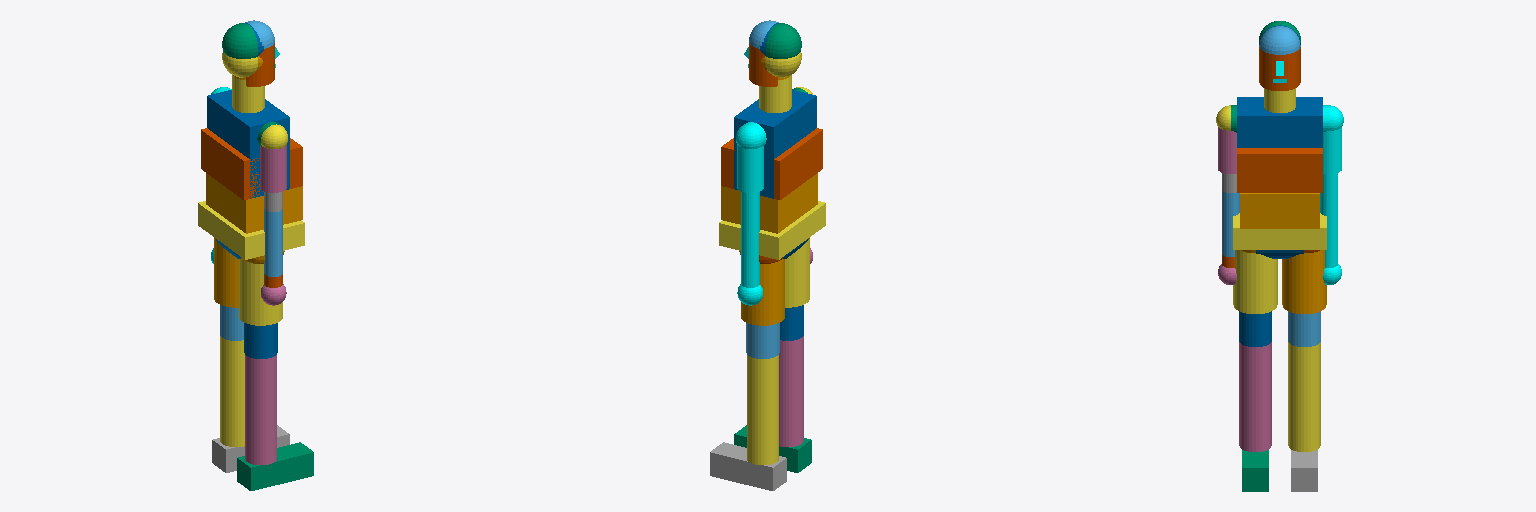
--- Facts derived from the render (not from the file) ---
The picture shows the robot from 3 angles, left to right: view 1: azimuth 30°, elevation 25°; view 2: azimuth 150°, elevation 25°; view 3: azimuth 270°, elevation 25°; orthographic projection.
Robot: human_model — 71 links, 70 joints (42 revolute, 28 fixed); root link human_model/head_link; default pose: every joint at zero.
Visible links, largest first — view 1: human_model/calf_right_link, human_model/upper_body_top_link, human_model/upper_body_bottom_link, human_model/calf_left_link, human_model/mid_body_link, human_model/pelvis_link, human_model/foot_right_link, human_model/thigh_right_link, human_model/thigh_left_link, human_model/forearm_right_link, human_model/bicep_right_link, human_model/thigh_lower_right_link (+7 smaller); view 2: human_model/calf_left_link, human_model/upper_body_top_link, human_model/upper_body_bottom_link, human_model/calf_right_link, human_model/mid_body_link, human_model/pelvis_link, human_model/foot_left_link, human_model/thigh_left_link, human_model/thigh_right_link, human_model/forearm_left_link, human_model/bicep_left_link, human_model/thigh_lower_left_link (+7 smaller); view 3: human_model/upper_body_top_link, human_model/upper_body_bottom_link, human_model/calf_left_link, human_model/calf_right_link, human_model/mid_body_link, human_model/thigh_left_link, human_model/thigh_right_link, human_model/pelvis_link, human_model/face_link, human_model/foot_left_link, human_model/foot_right_link, human_model/thigh_lower_left_link (+7 smaller).
Boxes of the visible links, box(x1,y1,x2,y2) form: human_model/calf_right_link: box(245, 355, 276, 464); human_model/upper_body_top_link: box(207, 90, 289, 198); human_model/upper_body_bottom_link: box(201, 128, 302, 199); human_model/calf_left_link: box(220, 336, 244, 446); human_model/mid_body_link: box(206, 173, 302, 233); human_model/pelvis_link: box(198, 201, 304, 259); human_model/foot_right_link: box(237, 442, 313, 490); human_model/thigh_right_link: box(239, 259, 282, 325); human_model/thigh_left_link: box(214, 239, 238, 307); human_model/forearm_right_link: box(264, 209, 282, 276); human_model/bicep_right_link: box(260, 145, 286, 192); human_model/thigh_lower_right_link: box(244, 323, 277, 358); human_model/calf_left_link: box(747, 355, 778, 464); human_model/upper_body_top_link: box(734, 90, 816, 198); human_model/upper_body_bottom_link: box(721, 128, 822, 199); human_model/calf_right_link: box(779, 336, 803, 446); human_model/mid_body_link: box(721, 173, 817, 233); human_model/pelvis_link: box(719, 201, 825, 259); human_model/foot_left_link: box(710, 442, 786, 490); human_model/thigh_left_link: box(741, 259, 784, 325); human_model/thigh_right_link: box(785, 239, 809, 307); human_model/forearm_left_link: box(741, 209, 759, 276); human_model/bicep_left_link: box(737, 145, 763, 192); human_model/thigh_lower_left_link: box(746, 323, 779, 358); human_model/upper_body_top_link: box(1237, 97, 1322, 147); human_model/upper_body_bottom_link: box(1237, 148, 1322, 192); human_model/calf_left_link: box(1288, 342, 1320, 451); human_model/calf_right_link: box(1239, 342, 1271, 451); human_model/mid_body_link: box(1240, 193, 1319, 228); human_model/thigh_left_link: box(1282, 250, 1326, 313); human_model/thigh_right_link: box(1233, 250, 1277, 313); human_model/pelvis_link: box(1233, 213, 1326, 249); human_model/face_link: box(1259, 47, 1300, 90); human_model/foot_left_link: box(1291, 450, 1317, 491); human_model/foot_right_link: box(1242, 450, 1268, 491); human_model/thigh_lower_left_link: box(1288, 311, 1320, 346).
Bounding box of the posed robot: 0.306 × 0.4639 × 1.78 m (x, y, z).
Geometry: primitives only (box / cylinder / sphere), no mesh files.

robot.urdf — human_model:
<?xml version="1.0" ?>
<robot name="human_model">
    <!--<self_collide>true</self_collide>-->
    <!--<static>false</static>-->
    <!--<pose>0 0 2 1.5708 0 0</pose>-->
    <!--<pose>0 0 2 0 -1.5708 0</pose>-->

    <link name ="human_model/head_link">
        <!--<inertial>
            <mass value="3.92"/>
            <origin
                    xyz="0.0 0.07825 0.0"
                    rpy="0 0 0" />
        </inertial>-->
        <visual name="visual">
            <origin
                    xyz="0.0 0.0 0.0"
                    rpy="0 0 0" />
            <geometry>
                <sphere radius="0.0765"/>
            </geometry>
            <!--<color>1.0 0.5 0.0</color>-->
        </visual>
        <collision name="collision">
            <origin
                    xyz="0.0 0.0 0.0"
                    rpy="0 0 0" />
            <geometry>
                <sphere radius="0.0765"/>
            </geometry>
        </collision>
    </link>

    <joint name="human_model/head_skull_front_joint" type="fixed">
        <origin
                xyz="0.023 0.0 0.050"
                rpy="0 0 0" />
        <parent link ="human_model/head_link"/>
        <child link ="human_model/skull_front_link"/>
        <axis
                xyz="0.0 0.0 0.0"/>
        <limit effort="0"
               velocity="0"
               lower="0.0"
               upper="0.0"/>
    </joint>

    <link name ="human_model/skull_front_link">
        <!--<inertial>
            <mass value="3.92"/>
            <origin
                    xyz="0.0 0.07825 0.0"
                    rpy="0 0 0" />
        </inertial>-->
        <visual name="visual">
            <origin
                    xyz="0.0 0.0 0.0"
                    rpy="0 0 0" />
            <geometry>
                <sphere radius="0.075"/>
            </geometry>
            <!--<color>1.0 0.5 0.0</color>-->
        </visual>
        <collision name="collision">
            <origin
                    xyz="0.0 0.0 0.0"
                    rpy="0 0 0" />
            <geometry>
                <sphere radius="0.075"/>
            </geometry>
        </collision>
    </link>

    <joint name="human_model/head_skull_back_joint" type="fixed">
        <origin
                xyz="-0.0205 0.0 0.0475"
                rpy="0 0 0" />
        <parent link ="human_model/head_link"/>
        <child link ="human_model/skull_back_link"/>
        <axis
                xyz="0.0 0.0 0.0"/>
        <limit effort="0"
               velocity="0"
               lower="0.0"
               upper="0.0"/>
    </joint>

    <link name ="human_model/skull_back_link">
        <!--<inertial>
            <mass value="3.92"/>
            <origin
                    xyz="0.0 0.07825 0.0"
                    rpy="0 0 0" />
        </inertial>-->
        <visual name="visual">
            <origin
                    xyz="0.0 0.0 0.0"
                    rpy="0 0 0" />
            <geometry>
                <sphere radius="0.0775"/>
            </geometry>
            <!--<color>1.0 0.5 0.0</color>-->
        </visual>
        <collision name="collision">
            <origin
                    xyz="0.0 0.0 0.0"
                    rpy="0 0 0" />
            <geometry>
                <sphere radius="0.0775"/>
            </geometry>
        </collision>
    </link>

    <joint name="human_model/head_skull_back_base_joint" type="fixed">
        <origin
                xyz="-0.0205 0.0 0.0"
                rpy="0 0 0" />
        <parent link ="human_model/head_link"/>
        <child link ="human_model/skull_back_base_link"/>
        <axis
                xyz="0.0 0.0 0.0"/>
        <limit effort="0"
               velocity="0"
               lower="0.0"
               upper="0.0"/>
    </joint>

    <link name ="human_model/skull_back_base_link">
        <!--<inertial>
            <mass value="3.92"/>
            <origin
                    xyz="0.0 0.07825 0.0"
                    rpy="0 0 0" />
        </inertial>-->
        <visual name="visual">
            <origin
                    xyz="0.0 0.0 0.0"
                    rpy="0 0 0" />
            <geometry>
                <sphere radius="0.0775"/>
            </geometry>
            <!--<color>1.0 0.5 0.0</color>-->
        </visual>
        <collision name="collision">
            <origin
                    xyz="0.0 0.0 0.0"
                    rpy="0 0 0" />
            <geometry>
                <sphere radius="0.0775"/>
            </geometry>
        </collision>
    </link>

    <joint name="human_model/head_skull_core_joint" type="fixed">
        <origin
                xyz="0.00125 0.0 0.0475"
                rpy="0 1.570796 0" />
        <parent link ="human_model/head_link"/>
        <child link ="human_model/skull_core_link"/>
        <axis
                xyz="0.0 0.0 0.0"/>
        <limit effort="0"
               velocity="0"
               lower="0.0"
               upper="0.0"/>
    </joint>

    <link name ="human_model/skull_core_link">
        <!--<inertial>
            <mass value="3.92"/>
            <origin
                    xyz="0.0 0.07825 0.0"
                    rpy="0 0 0" />
        </inertial>-->
        <visual name="visual">
            <origin
                    xyz="0.0 0.0 0.0"
                    rpy="0 0 0" />
            <geometry>
                <cylinder radius="0.075"
                          length="0.0435"/>
            </geometry>
            <!--<color>1.0 0.5 0.0</color>-->
        </visual>
        <collision name="collision">
            <origin
                    xyz="0.0 0.0 0.0"
                    rpy="0 0 0" />
            <geometry>
                <cylinder radius="0.075"
                          length="0.0435"/>
            </geometry>
        </collision>
    </link>

    <joint name="human_model/head_face_joint" type="fixed">
        <origin
                xyz="0.023 0.0 -0.023"
                rpy="0.0 0 0" />
        <parent link ="human_model/head_link"/>
        <child link ="human_model/face_link"/>
        <axis
                xyz="0.0 0.0 0.0"/>
        <limit effort="0"
               velocity="0"
               lower="0.0"
               upper="0.0"/>
    </joint>

    <link name ="human_model/face_link">
        <!--<inertial>
            <mass value="3.92"/>
            <origin
                    xyz="0.0 0.07825 0.0"
                    rpy="0 0 0" />
        </inertial>-->
        <visual name="visual">
            <origin
                    xyz="0.0 0.0 0.0"
                    rpy="0 0 0" />
            <geometry>
                <cylinder radius="0.075"
                          length="0.146"/>
            </geometry>
            <!--<color>1.0 0.5 0.0</color>-->
        </visual>
        <collision name="collision">
            <origin
                    xyz="0.0 0.0 0.0"
                    rpy="0 0 0" />
            <geometry>
                <cylinder radius="0.07"
                          length="0.183"/>
            </geometry>
        </collision>
    </link>

    <joint name="human_model/head_nose_joint" type="fixed">
        <origin
                xyz="0.098 0.0 0.02568"
                rpy="0.0 -0.49589449 0" />
        <parent link ="human_model/head_link"/>
        <child link ="human_model/nose_link"/>
        <axis
                xyz="0.0 0.0 0.0"/>
        <limit effort="0"
               velocity="0"
               lower="0.0"
               upper="0.0"/>
    </joint>

    <link name ="human_model/nose_link">
        <!--<inertial>
            <mass value="3.92"/>
            <origin
                    xyz="0.0 0.07825 0.0"
                    rpy="0 0 0" />
        </inertial>-->
        <visual name="visual">
            <origin
                    xyz="-0.05 0.0 -0.0265"
                    rpy="0 0 0" />
            <geometry>
                <box size="0.1 0.028 0.053"/>
            </geometry>
            <material name="Cyan">
                <color rgba="0 1.0 1.0 1.0"/>
            </material>
        </visual>
        <collision name="collision">
            <origin
                    xyz="-0.05 0.0 -0.0265"
                    rpy="0 0 0" />
            <geometry>
                <box size="0.1 0.028 0.053"/>
            </geometry>
        </collision>
    </link>

    <joint name="human_model/head_mouth_joint" type="fixed">
        <origin
                xyz="0.098 0.0 -0.055"
                rpy="0.0 0 0" />
        <parent link ="human_model/head_link"/>
        <child link ="human_model/mouth_link"/>
        <axis
                xyz="0.0 0.0 0.0"/>
        <limit effort="0"
               velocity="0"
               lower="0.0"
               upper="0.0"/>
    </joint>

    <link name ="human_model/mouth_link">
        <!--<inertial>
            <mass value="3.92"/>
            <origin
                    xyz="0.0 0.07825 0.0"
                    rpy="0 0 0" />
        </inertial>-->
        <visual name="visual">
            <origin
                    xyz="-0.005 0 0"
                    rpy="0 0 0" />
            <geometry>
                <box size="0.01 0.051 0.015"/>
            </geometry>
            <material name="Cyan">
                <color rgba="0 1.0 1.0 1.0"/>
            </material>
        </visual>
        <collision name="collision">
            <origin
                    xyz="-0.005 0 0"
                    rpy="0 0 0" />
            <geometry>
                <box size="0.01 0.051 0.015"/>
            </geometry>
        </collision>
    </link>

    <joint name="human_model/head_skull_base_joint" type="fixed">
        <origin
                xyz="0.0 0.0 0.0"
                rpy="0.0 0.0 0" />
        <parent link ="human_model/head_link"/>
        <child link ="human_model/skull_base_link"/>
        <axis
                xyz="0.0 0.0 0.0"/>
        <limit effort="0"
               velocity="0"
               lower="0.0"
               upper="0.0"/>
    </joint>

    <link name ="human_model/skull_base_link">
        <!--<inertial>
            <mass value="3.92"/>
            <origin
                    xyz="0.0 0.07825 0.0"
                    rpy="0 0 0" />
        </inertial>-->
        <visual name="visual">
            <origin
                    xyz="0 0.0 0"
                    rpy="0 0 0" />
            <geometry>
                <cylinder radius="0.0585"
                          length="0.146"/>
            </geometry>
            <!--<color>1.0 0.5 0.0</color>-->
        </visual>
        <collision name="collision">
            <origin
                    xyz="0.0 0.0 0.0"
                    rpy="0 0 0" />
            <geometry>
                <cylinder radius="0.0585"
                          length="0.146"/>
            </geometry>
        </collision>
    </link>

    <joint name="human_model/head_neck_x_joint" type="revolute">
        <origin
                xyz="0.0 0.0 -0.073"
                rpy="0.0 0.0 0" />
        <parent link ="human_model/head_link"/>
        <child link ="human_model/neck_rotx_link"/>
        <axis
                xyz="1.0 0.0 0.0"/>
        <limit effort="0"
               velocity="0"
               lower="-1.58"
               upper="1.58"/>
    </joint>

    <link name ="human_model/neck_rotx_link">
    </link>

    <joint name="human_model/head_neck_y_joint" type="revolute">
        <origin
                xyz="0.0 0.0 0.0"
                rpy="0.0 0.0 0" />
        <parent link ="human_model/neck_rotx_link"/>
        <child link ="human_model/neck_roty_link"/>
        <axis
                xyz="0.0 1.0 0.0"/>
        <limit effort="0"
               velocity="0"
               lower="-1.58"
               upper="1.58"/>
    </joint>

    <link name ="human_model/neck_roty_link">
    </link>

    <joint name="human_model/head_neck_z_joint" type="revolute">
        <origin
                xyz="0.0 0.0 0.0"
                rpy="0.0 0.0 0" />
        <parent link ="human_model/neck_roty_link"/>
        <child link ="human_model/neck_link"/>
        <axis
                xyz="0.0 0.0 1.0"/>
        <limit effort="0"
               velocity="0"
               lower="-1.58"
               upper="1.58"/>
    </joint>

    <link name ="human_model/neck_link">
        <!--<inertial>
            <mass value="3.92"/>
            <origin
                    xyz="0.0 0.07825 0.0"
                    rpy="0 0 0" />
        </inertial>-->
        <visual name="visual">
            <origin
                    xyz="0 0.0 -0.065"
                    rpy="0 0 0" />
            <geometry>
                <cylinder radius="0.0585"
                          length="0.130"/>
            </geometry>
            <!--<color>1.0 0.5 0.0</color>-->
        </visual>
        <collision name="collision">
            <origin
                    xyz="0.0 0.0 -0.065"
                    rpy="0 0 0" />
            <geometry>
                <cylinder radius="0.0585"
                          length="0.130"/>
            </geometry>
        </collision>
    </link>

    <joint name="human_model/neck_upper_body_top_joint" type="revolute">
        <origin
                xyz="0.0 0.0 -0.13"
                rpy="0.0 0.0 0" />
        <parent link ="human_model/neck_link"/>
        <child link ="human_model/upper_body_top_link"/>
        <axis
                xyz="0.0 1.0 0.0"/>
        <limit effort="0"
               velocity="0"
               lower="-1."
               upper="1."/>
    </joint>

    <link name ="human_model/upper_body_top_link">
        <!--<inertial>
            <mass value="3.92"/>
            <origin
                    xyz="0.0 0.07825 0.0"
                    rpy="0 0 0" />
        </inertial>-->
        <visual name="visual">
            <origin
                    xyz="0.0 0.0 -0.14215"
                    rpy="0 0 0" />
            <geometry>
                <box size="0.166923 0.310 0.2843"/>
            </geometry>
            <!--<color>1.0 0.5 0.0</color>-->
        </visual>
        <collision name="collision">
            <origin
                    xyz="0.0 0.0 -0.14215"
                    rpy="0 0 0" />
            <geometry>
                <box size="0.166923 0.310 0.2843"/>
            </geometry>
        </collision>
    </link>

    <joint name="human_model/upper_body_bottom_joint" type="fixed">
        <origin
                xyz="0.0 0.0 -0.1284"
                rpy="0.0 0.0 0" />
        <parent link ="human_model/upper_body_top_link"/>
        <child link ="human_model/upper_body_bottom_link"/>
        <axis
                xyz="0.0 1.0 0.0"/>
        <limit effort="0"
               velocity="0"
               lower="-1."
               upper="1."/>
    </joint>

    <link name ="human_model/upper_body_bottom_link">
        <!--<inertial>
            <mass value="3.92"/>
            <origin
                    xyz="0.0 0.07825 0.0"
                    rpy="0 0 0" />
        </inertial>-->
        <visual name="visual">
            <origin
                    xyz="0.01279 0.0 -0.077948"
                    rpy="0 0 0" />
            <geometry>
                <box size="0.244 0.310 0.1559"/>
            </geometry>
            <!--<color>1.0 0.5 0.0</color>-->
        </visual>
        <collision name="collision">
            <origin
                    xyz="0.01279 0.0 -0.077948"
                    rpy="0 0 0" />
            <geometry>
                <box size="0.244 0.310 0.1559"/>
            </geometry>
        </collision>
    </link>

    <joint name="human_model/upper_body_mid_body_x_joint" type="revolute">
        <origin
                xyz="0.0 0.0 -0.2843"
                rpy="0.0 0.0 0" />
        <parent link ="human_model/upper_body_top_link"/>
        <child link ="human_model/mid_body_rotx_link"/>
        <axis
                xyz="1.0 0.0 0.0"/>
        <limit effort="0"
               velocity="0"
               lower="-1.58"
               upper="1.58"/>
    </joint>

    <link name ="human_model/mid_body_rotx_link">
    </link>

    <joint name="human_model/upper_body_mid_body_y_joint" type="revolute">
        <origin
                xyz="0.0 0.0 0.0"
                rpy="0.0 0.0 0" />
        <parent link ="human_model/mid_body_rotx_link"/>
        <child link ="human_model/mid_body_roty_link"/>
        <axis
                xyz="0.0 1.0 0.0"/>
        <limit effort="0"
               velocity="0"
               lower="-1.58"
               upper="1.58"/>
    </joint>

    <link name ="human_model/mid_body_roty_link">
    </link>

    <joint name="human_model/upper_body_mid_body_z_joint" type="revolute">
        <origin
                xyz="0.0 0.0 0.0"
                rpy="0.0 0.0 0" />
        <parent link ="human_model/mid_body_roty_link"/>
        <child link ="human_model/mid_body_link"/>
        <axis
                xyz="0.0 0.0 1.0"/>
        <limit effort="0"
               velocity="0"
               lower="-1.58"
               upper="1.58"/>
    </joint>

    <link name ="human_model/mid_body_link">
        <!--<inertial>
            <mass value="3.92"/>
            <origin
                    xyz="0.0 0.07825 0.0"
                    rpy="0 0 0" />
        </inertial>-->
        <visual name="visual">
            <origin
                    xyz="0.02465 0.0 -0.06985"
                    rpy="0 0 0" />
            <geometry>
                <box size="0.23626 0.290 0.1397"/>
            </geometry>
            <!--<color>1.0 0.5 0.0</color>-->
        </visual>
        <collision name="collision">
            <origin
                    xyz="0.02465 0.0 -0.06985"
                    rpy="0 0 0" />
            <geometry>
                <box size="0.23626 0.290 0.1397"/>
            </geometry>
        </collision>
    </link>

    <joint name="human_model/mid_body_pelvis_x_joint" type="revolute">
        <origin
                xyz="0.0 0.0 -0.1397"
                rpy="0.0 0.0 0" />
        <parent link ="human_model/mid_body_link"/>
        <child link ="human_model/pelvis_rotx_link"/>
        <axis
                xyz="1.0 0.0 0.0"/>
        <limit effort="0"
               velocity="0"
               lower="-1.58"
               upper="1.58"/>
    </joint>

    <link name ="human_model/pelvis_rotx_link">
    </link>

    <joint name="human_model/mid_body_pelvis_y_joint" type="revolute">
        <origin
                xyz="0.0 0.0 0.0"
                rpy="0.0 0.0 0" />
        <parent link ="human_model/pelvis_rotx_link"/>
        <child link ="human_model/pelvis_roty_link"/>
        <axis
                xyz="0.0 1.0 0.0"/>
        <limit effort="0"
               velocity="0"
               lower="-1.58"
               upper="1.58"/>
    </joint>

    <link name ="human_model/pelvis_roty_link">
    </link>

    <joint name="human_model/mid_body_pelvis_z_joint" type="revolute">
        <origin
                xyz="0.0 0.0 0.0"
                rpy="0.0 0.0 0" />
        <parent link ="human_model/pelvis_roty_link"/>
        <child link ="human_model/pelvis_link"/>
        <axis
                xyz="0.0 0.0 1.0"/>
        <limit effort="0"
               velocity="0"
               lower="-1.58"
               upper="1.58"/>
    </joint>

    <link name ="human_model/pelvis_link">
        <!--<inertial>
            <mass value="3.92"/>
            <origin
                    xyz="0.0 0.07825 0.0"
                    rpy="0 0 0" />
        </inertial>-->
        <visual name="visual">
            <origin
                    xyz="0.01145385 0.0 -0.0445"
                    rpy="0 0 0" />
            <geometry>
                <box size="0.2488957 0.3424 0.089"/>
            </geometry>
            <!--<color>1.0 0.5 0.0</color>-->
        </visual>
        <collision name="collision">
            <origin
                    xyz="0.01145385 0.0 -0.0445"
                    rpy="0 0 0" />
            <geometry>
                <box size="0.2488957 0.3424 0.089"/>
            </geometry>
        </collision>
    </link>

    <joint name="human_model/pelvis_pelvis_floor_joint" type="fixed">
        <origin
                xyz="0.0 0.0 -0.089"
                rpy="0 0 0" />
        <parent link ="human_model/pelvis_link"/>
        <child link ="human_model/pelvis_floor_link"/>
        <axis
                xyz="0.0 0.0 0.0"/>
        <limit effort="0"
               velocity="0"
               lower="0.0"
               upper="0.0"/>
    </joint>

    <link name ="human_model/pelvis_floor_link">
        <!--<inertial>
            <mass value="3.92"/>
            <origin
                    xyz="0.0 0.07825 0.0"
                    rpy="0 0 0" />
        </inertial>-->
        <visual name="visual">
            <origin
                    xyz="0.0 0.0 0.0"
                    rpy="1.5707963267948966 0 0" />
            <geometry>
                <cylinder
                        radius="0.089"
                        length="0.178"/>
            </geometry>
            <!--<color>1.0 0.5 0.0</color>-->
        </visual>
        <collision name="collision">
            <origin
                    xyz="0.0 0.0 -0.089"
                    rpy="1.5707963267948966 0 0" />
            <geometry>
                <cylinder
                        radius="0.089"
                        length="0.178"/>
            </geometry>
        </collision>
    </link>


    <!--LEFT LEG-->
    <joint name="human_model/pelvis_hip_left_joint" type="fixed">
        <origin
                xyz="0.0 0.089 -0.089"
                rpy="0 0 0" />
        <parent link ="human_model/pelvis_link"/>
        <child link ="human_model/hip_left_link"/>
        <axis
                xyz="0.0 0.0 0.0"/>
        <limit effort="0"
               velocity="0"
               lower="0.0"
               upper="0.0"/>
    </joint>

    <link name ="human_model/hip_left_link">
        <!--<inertial>
            <mass value="3.92"/>
            <origin
                    xyz="0.0 0.07825 0.0"
                    rpy="0 0 0" />
        </inertial>-->
        <visual name="visual">
            <origin
                    xyz="0.0 0.0 0.0"
                    rpy="0 0 0" />
            <geometry>
                <sphere radius="0.089"/>
            </geometry>
            <!--<color>1.0 0.5 0.0</color>-->
        </visual>
        <collision name="collision">
            <origin
                    xyz="0.0 0.0 0.0"
                    rpy="0 0 0" />
            <geometry>
                <sphere radius="0.089"/>
            </geometry>
        </collision>
    </link>

    <joint type="revolute" name="human_model/hip_thigh_left_x_joint">
        <origin
                xyz="0 0 0"
                rpy="0 0 0" />
        <parent link ="human_model/hip_left_link"/>
        <child link ="human_model/thigh_left_rotx_link"/>
        <axis
                xyz="1 0 0" />
        <limit effort="0"
               velocity="0"
               lower="-3.14159"
               upper="3.14159" />
    </joint>

    <link name ="human_model/thigh_left_rotx_link">
    </link>

    <joint type="revolute" name="human_model/hip_thigh_left_y_joint">
        <origin
                xyz="0 0 0"
                rpy="0 0 0" />
        <parent link ="human_model/thigh_left_rotx_link"/>
        <child link ="human_model/thigh_left_roty_link"/>
        <axis
                xyz="0 1 0" />
        <limit effort="0"
               velocity="0"
               lower="-0.75"
               upper="0.75" />
    </joint>

    <link name ="human_model/thigh_left_roty_link">
    </link>

    <joint type="revolute" name="human_model/hip_thigh_left_z_joint">
        <origin
                xyz="0 0 0"
                rpy="0 0 0" />
        <parent link ="human_model/thigh_left_roty_link"/>
        <child link ="human_model/thigh_left_link"/>
        <axis
                xyz="0 0 1" />
        <limit effort="0"
               velocity="0"
               lower="-3.14159"
               upper="3.14159" />
    </joint>

    <link name ="human_model/thigh_left_link">
        <!--<inertial>
            <mass value="6.5709"/>
            <origin
                    xyz="0.0 -0.18605 0.0"
                    rpy="0 0 0" />
        </inertial>-->
        <visual name="visual">
            <origin
                    xyz="0.0 0.0 -0.141333333333"
                    rpy="0 0 0" />
            <geometry>
                <cylinder radius="0.080"
                          length="0.282666666667"/>
            </geometry>
        </visual>
        <collision name="collision">
            <origin
                    xyz="0.0 0.0 -0.141333333333"
                    rpy="0 0 0" />
            <geometry>
                <cylinder radius="0.080"
                          length="0.282666666667"/>
            </geometry>
        </collision>
    </link>

    <joint type="fixed" name="human_model/thigh_thigh_lower_left_joint">
        <origin
                xyz="0.0 0.0 -0.282666666667"
                rpy="0 0 0" />
        <parent link ="human_model/thigh_left_link"/>
        <child link ="human_model/thigh_lower_left_link"/>
        <axis
                xyz="0 0 0" />
        <limit effort="0"
               velocity="0"
               lower="0"
               upper="0" />
    </joint>

    <link name ="human_model/thigh_lower_left_link">
        <!--<inertial>
            <mass value="6.5709"/>
            <origin
                    xyz="0.0 -0.18605 0.0"
                    rpy="0 0 0" />
        </inertial>-->
        <visual name="visual">
            <origin
                    xyz="0.0 0.0 -0.070666666667"
                    rpy="0 0 0" />
            <geometry>
                <cylinder radius="0.06"
                          length="0.141333333333"/>
            </geometry>
        </visual>
        <collision name="collision">
            <origin
                    xyz="0.0 0.0 -0.070666666667"
                    rpy="0 0 0" />
            <geometry>
                <cylinder radius="0.06"
                          length="0.141333333333"/>
            </geometry>
        </collision>
    </link>

    <joint type="fixed" name="human_model/thigh_knee_left_joint">
        <origin
                xyz="0.0 0.0 -0.424"
                rpy="0 0 0" />
        <parent link ="human_model/thigh_left_link"/>
        <child link ="human_model/knee_left_link"/>
        <axis
                xyz="0 0 0" />
        <limit effort="0"
               velocity="0"
               lower="0"
               upper="0" />
    </joint>

    <link name ="human_model/knee_left_link">
        <!--<inertial>
            <mass value="6.5709"/>
            <origin
                    xyz="0.0 -0.18605 0.0"
                    rpy="0 0 0" />
        </inertial>-->
        <visual name="visual">
            <origin
                    xyz="0.0 0.0 0.0"
                    rpy="0 0 0" />
            <geometry>
                <sphere radius="0.0533"/>
            </geometry>
        </visual>
        <collision name="collision">
            <origin
                    xyz="0.0 0.0 0.0"
                    rpy="0 0 0" />
            <geometry>
                <sphere radius="0.0533"/>
            </geometry>
        </collision>
    </link>

    <joint type="revolute" name="human_model/knee_calf_left_joint">
        <origin
                xyz="0.0 0.0 0.0"
                rpy="0 0 0" />
        <parent link ="human_model/knee_left_link"/>
        <child link ="human_model/calf_left_link"/>
        <axis
                xyz="0 1 0" />
        <limit effort="0"
               velocity="0"
               lower="-2.6416"
               upper="2" />
    </joint>

    <link name ="human_model/calf_left_link">
        <!--<inertial>
            <mass value="1.7738"/>
            <origin
                    xyz="0.0 -0.18685 0.0"
                    rpy="0 0 0" />
        </inertial>-->
        <visual name="visual">
            <origin
                    xyz="0.0 0.0 -0.211"
                    rpy="0 0 0" />
            <geometry>
                <cylinder radius="0.0585"
                          length="0.422"/>
            </geometry>
        </visual>
        <collision name="collision">
            <origin
                    xyz="0.0 0.0 -0.211"
                    rpy="0 0 0" />
            <geometry>
                <cylinder radius="0.0585"
                          length="0.422"/>
            </geometry>
        </collision>
    </link>

    <joint type="fixed" name="human_model/calf_ankle_left_joint">
        <origin
                xyz="0.0 0.0 -0.422"
                rpy="0 0 0" />
        <parent link ="human_model/calf_left_link"/>
        <child link ="human_model/ankle_left_link"/>
        <axis
                xyz="0 0 0" />
        <limit effort="0"
               velocity="0"
               lower="0"
               upper="0" />
    </joint>

    <link name ="human_model/ankle_left_link">
        <!--<inertial>
            <mass value="6.5709"/>
            <origin
                    xyz="0.0 -0.18605 0.0"
                    rpy="0 0 0" />
        </inertial>-->
        <visual name="visual">
            <origin
                    xyz="0.0 0.0 0.0"
                    rpy="0 0 0" />
            <geometry>
                <sphere radius="0.048"/>
            </geometry>
        </visual>
        <collision name="collision">
            <origin
                    xyz="0.0 0.0 0.0"
                    rpy="0 0 0" />
            <geometry>
                <sphere radius="0.048"/>
            </geometry>
        </collision>
    </link>

    <joint type="revolute" name="human_model/ankle_foot_left_x_joint">
        <origin
                xyz="0 0 0"
                rpy="0 0 0" />
        <parent link ="human_model/ankle_left_link"/>
        <child link ="human_model/foot_left_rotx_link"/>
        <axis
                xyz="1.0 0.0 0.0"/>
        <limit effort="0" velocity="0"
               lower="-1.136"
               upper="1.350"/>
    </joint>

    <link name="human_model/foot_left_rotx_link">
    </link>

    <joint type="revolute" name="human_model/ankle_foot_left_y_joint">
        <origin
                xyz="0 0 0"
                rpy="0 0 0" />
        <parent link ="human_model/foot_left_rotx_link"/>
        <child link ="human_model/foot_left_roty_link"/>
        <axis
                xyz="0.0 1.0 0.0"/>
        <limit effort="0" velocity="0"
               lower="-1.2854"
               upper="1.3854"/>
    </joint>

    <link name="human_model/foot_left_roty_link">
    </link>

    <joint type="revolute" name="human_model/ankle_foot_left_z_joint">
        <origin
                xyz="0 0 0"
                rpy="0 0 0" />
        <parent link ="human_model/foot_left_roty_link"/>
        <child link ="human_model/foot_left_link"/>
        <axis
                xyz="0 0 1" />
        <limit effort="0" velocity="0"
               lower="-1.4236"
               upper="1.5536"/>
    </joint>

    <link name ="human_model/foot_left_link">
        <!--<inertial>
            <mass value="3.92"/>
            <origin
                    xyz="0.0 0.07825 0.0"
                    rpy="0 0 0" />
        </inertial>-->
        <visual name="visual">
            <origin
                    xyz="0.061 0.0 -0.047"
                    rpy="0 0 0" />
            <geometry>
                <box size="0.264 0.099 0.094"/>
            </geometry>
            <!--<color>1.0 0.5 0.0</color>-->
        </visual>
        <collision name="collision">
            <origin
                    xyz="0.061 0.0 -0.047"
                    rpy="0 0 0" />
            <geometry>
                <box size="0.264 0.099 0.094"/>
            </geometry>
        </collision>
    </link>

    <!--RIGHT LEG-->
    <joint name="human_model/pelvis_hip_right_joint" type="fixed">
        <origin
                xyz="0.0 -0.089 -0.089"
                rpy="0 0 0" />
        <parent link ="human_model/pelvis_link"/>
        <child link ="human_model/hip_right_link"/>
        <axis
                xyz="0.0 0.0 0.0"/>
        <limit effort="0"
               velocity="0"
               lower="0.0"
               upper="0.0"/>
    </joint>

    <link name ="human_model/hip_right_link">
        <!--<inertial>
            <mass value="3.92"/>
            <origin
                    xyz="0.0 0.07825 0.0"
                    rpy="0 0 0" />
        </inertial>-->
        <visual name="visual">
            <origin
                    xyz="0.0 0.0 0.0"
                    rpy="0 0 0" />
            <geometry>
                <sphere radius="0.089"/>
            </geometry>
            <!--<color>1.0 0.5 0.0</color>-->
        </visual>
        <collision name="collision">
            <origin
                    xyz="0.0 0.0 0.0"
                    rpy="0 0 0" />
            <geometry>
                <sphere radius="0.089"/>
            </geometry>
        </collision>
    </link>

    <joint type="revolute" name="human_model/hip_thigh_right_x_joint">
        <origin
                xyz="0 0 0"
                rpy="0 0 0" />
        <parent link ="human_model/hip_right_link"/>
        <child link ="human_model/thigh_right_rotx_link"/>
        <axis
                xyz="1 0 0" />
        <limit effort="0"
               velocity="0"
               lower="-3.14159"
               upper="3.14159" />
    </joint>

    <link name ="human_model/thigh_right_rotx_link">
    </link>

    <joint type="revolute" name="human_model/hip_thigh_right_y_joint">
        <origin
                xyz="0 0 0"
                rpy="0 0 0" />
        <parent link ="human_model/thigh_right_rotx_link"/>
        <child link ="human_model/thigh_right_roty_link"/>
        <axis
                xyz="0 1 0" />
        <limit effort="0"
               velocity="0"
               lower="-0.75"
               upper="0.75" />
    </joint>

    <link name ="human_model/thigh_right_roty_link">
    </link>

    <joint type="revolute" name="human_model/hip_thigh_right_z_joint">
        <origin
                xyz="0 0 0"
                rpy="0 0 0" />
        <parent link ="human_model/thigh_right_roty_link"/>
        <child link ="human_model/thigh_right_link"/>
        <axis
                xyz="0 0 1" />
        <limit effort="0"
               velocity="0"
               lower="-3.14159"
               upper="3.14159" />
    </joint>

    <link name ="human_model/thigh_right_link">
        <!--<inertial>
            <mass value="6.5709"/>
            <origin
                    xyz="0.0 -0.18605 0.0"
                    rpy="0 0 0" />
        </inertial>-->
        <visual name="visual">
            <origin
                    xyz="0.0 0.0 -0.141333333333"
                    rpy="0 0 0" />
            <geometry>
                <cylinder radius="0.080"
                          length="0.282666666667"/>
            </geometry>
        </visual>
        <collision name="collision">
            <origin
                    xyz="0.0 0.0 -0.141333333333"
                    rpy="0 0 0" />
            <geometry>
                <cylinder radius="0.080"
                          length="0.282666666667"/>
            </geometry>
        </collision>
    </link>

    <joint type="fixed" name="human_model/thigh_thigh_lower_right_joint">
        <origin
                xyz="0.0 0.0 -0.282666666667"
                rpy="0 0 0" />
        <parent link ="human_model/thigh_right_link"/>
        <child link ="human_model/thigh_lower_right_link"/>
        <axis
                xyz="0 0 0" />
        <limit effort="0"
               velocity="0"
               lower="0"
               upper="0" />
    </joint>

    <link name ="human_model/thigh_lower_right_link">
        <!--<inertial>
            <mass value="6.5709"/>
            <origin
                    xyz="0.0 -0.18605 0.0"
                    rpy="0 0 0" />
        </inertial>-->
        <visual name="visual">
            <origin
                    xyz="0.0 0.0 -0.070666666667"
                    rpy="0 0 0" />
            <geometry>
                <cylinder radius="0.06"
                          length="0.141333333333"/>
            </geometry>
        </visual>
        <collision name="collision">
            <origin
                    xyz="0.0 0.0 -0.070666666667"
                    rpy="0 0 0" />
            <geometry>
                <cylinder radius="0.06"
                          length="0.141333333333"/>
            </geometry>
        </collision>
    </link>

    <joint type="fixed" name="human_model/thigh_knee_right_joint">
        <origin
                xyz="0.0 0.0 -0.424"
                rpy="0 0 0" />
        <parent link ="human_model/thigh_right_link"/>
        <child link ="human_model/knee_right_link"/>
        <axis
                xyz="0 0 0" />
        <limit effort="0"
               velocity="0"
               lower="0"
               upper="0" />
    </joint>

    <link name ="human_model/knee_right_link">
        <!--<inertial>
            <mass value="6.5709"/>
            <origin
                    xyz="0.0 -0.18605 0.0"
                    rpy="0 0 0" />
        </inertial>-->
        <visual name="visual">
            <origin
                    xyz="0.0 0.0 0.0"
                    rpy="0 0 0" />
            <geometry>
                <sphere radius="0.0533"/>
            </geometry>
        </visual>
        <collision name="collision">
            <origin
                    xyz="0.0 0.0 0.0"
                    rpy="0 0 0" />
            <geometry>
                <sphere radius="0.0533"/>
            </geometry>
        </collision>
    </link>

    <joint type="revolute" name="human_model/knee_calf_right_joint">
        <origin
                xyz="0.0 0.0 0.0"
                rpy="0 0 0" />
        <parent link ="human_model/knee_right_link"/>
        <child link ="human_model/calf_right_link"/>
        <axis
                xyz="0 1 0" />
        <limit effort="0"
               velocity="0"
               lower="-2.6416"
               upper="2" />
    </joint>

    <link name ="human_model/calf_right_link">
        <!--<inertial>
            <mass value="1.7738"/>
            <origin
                    xyz="0.0 -0.18685 0.0"
                    rpy="0 0 0" />
        </inertial>-->
        <visual name="visual">
            <origin
                    xyz="0.0 0.0 -0.211"
                    rpy="0 0 0" />
            <geometry>
                <cylinder radius="0.0585"
                          length="0.422"/>
            </geometry>
        </visual>
        <collision name="collision">
            <origin
                    xyz="0.0 0.0 -0.211"
                    rpy="0 0 0" />
            <geometry>
                <cylinder radius="0.0585"
                          length="0.422"/>
            </geometry>
        </collision>
    </link>

    <joint type="fixed" name="human_model/calf_ankle_right_joint">
        <origin
                xyz="0.0 0.0 -0.422"
                rpy="0 0 0" />
        <parent link ="human_model/calf_right_link"/>
        <child link ="human_model/ankle_right_link"/>
        <axis
                xyz="0 0 0" />
        <limit effort="0"
               velocity="0"
               lower="0"
               upper="0" />
    </joint>

    <link name ="human_model/ankle_right_link">
        <!--<inertial>
            <mass value="6.5709"/>
            <origin
                    xyz="0.0 -0.18605 0.0"
                    rpy="0 0 0" />
        </inertial>-->
        <visual name="visual">
            <origin
                    xyz="0.0 0.0 0.0"
                    rpy="0 0 0" />
            <geometry>
                <sphere radius="0.048"/>
            </geometry>
        </visual>
        <collision name="collision">
            <origin
                    xyz="0.0 0.0 0.0"
                    rpy="0 0 0" />
            <geometry>
                <sphere radius="0.048"/>
            </geometry>
        </collision>
    </link>

    <joint type="revolute" name="human_model/ankle_foot_right_x_joint">
        <origin
                xyz="0 0 0"
                rpy="0 0 0" />
        <parent link ="human_model/ankle_right_link"/>
        <child link ="human_model/foot_right_rotx_link"/>
        <axis
                xyz="1.0 0.0 0.0"/>
        <limit effort="0"
               velocity="0"
               lower="-1.136"
               upper="1.350"/>
    </joint>

    <link name="human_model/foot_right_rotx_link">
    </link>

    <joint type="revolute" name="human_model/ankle_foot_right_y_joint">
        <origin
                xyz="0 0 0"
                rpy="0 0 0" />
        <parent link ="human_model/foot_right_rotx_link"/>
        <child link ="human_model/foot_right_roty_link"/>
        <axis
                xyz="0.0 1.0 0.0"/>
        <limit effort="0" velocity="0"
               lower="-1.2854"
               upper="1.3854"/>
    </joint>

    <link name="human_model/foot_right_roty_link">
    </link>

    <joint type="revolute" name="human_model/ankle_foot_right_z_joint">
        <origin
                xyz="0 0 0"
                rpy="0 0 0" />
        <parent link ="human_model/foot_right_roty_link"/>
        <child link ="human_model/foot_right_link"/>
        <axis
                xyz="0 0 1" />
        <limit effort="0" velocity="0"
               lower="-1.4236"
               upper="1.5536"/>
    </joint>

    <link name ="human_model/foot_right_link">
        <!--<inertial>
            <mass value="3.92"/>
            <origin
                    xyz="0.0 0.07825 0.0"
                    rpy="0 0 0" />
        </inertial>-->
        <visual name="visual">
            <origin
                    xyz="0.061 0.0 -0.047"
                    rpy="0 0 0" />
            <geometry>
                <box size="0.264 0.099 0.094"/>
            </geometry>
            <!--<color>1.0 0.5 0.0</color>-->
        </visual>
        <collision name="collision">
            <origin
                    xyz="0.061 0.0 -0.047"
                    rpy="0 0 0" />
            <geometry>
                <box size="0.264 0.099 0.094"/>
            </geometry>
        </collision>
    </link>

    <!-- Left Arm -->
    <joint type="revolute" name="human_model/upper_body_scapula_left_x_joint">
        <origin
                xyz="0.0 0.0314 -0.053"
                rpy="0.0 0.0 0.0" />
        <parent link ="human_model/upper_body_top_link"/>
        <child link ="human_model/scapula_left_rotx_link"/>
        <axis
                xyz="1.0 0.0 0.0"/>
        <limit effort="0" velocity="0"
               lower="-1.2491"
               upper="1.2491"/>
    </joint>

    <link name ="human_model/scapula_left_rotx_link">
    </link>

    <joint type="revolute" name="human_model/upper_body_scapula_left_z_joint">
        <origin
                xyz="0.0 0.0 0.0"
                rpy="0.0 0.0 0.0" />
        <parent link ="human_model/scapula_left_rotx_link"/>
        <child link ="human_model/scapula_left_link"/>
        <axis
                xyz="0.0 0.0 1.0"/>
        <limit effort="0" velocity="0"
               lower="-1.2491"
               upper="1.2491"/>
    </joint>

    <link name ="human_model/scapula_left_link">
        <!--<inertial>
            <mass value="1.7738"/>
            <origin
                    xyz="0.0 -0.18685 0.0"
                    rpy="0 0 0" />
        </inertial>-->
        <visual name="visual">
            <origin
                    xyz="0.0 0.0737835 0.0"
                    rpy="1.570796 0 0" />
            <geometry>
                <cylinder radius="0.053"
                          length="0.147567"/>
            </geometry>
            <material name="Cyan">
                <color rgba="0 1.0 1.0 1.0"/>
            </material>
        </visual>
        <collision name="collision">
            <origin
                    xyz="0.0 0.0737835 0.0"
                    rpy="1.570796 0 0" />
            <geometry>
                <cylinder radius="0.053"
                          length="0.147567"/>
            </geometry>
        </collision>
    </link>

    <joint type="fixed" name="human_model/scapula_shoulder_left_joint">
        <origin
                xyz="0.0 0.147567 0.0"
                rpy="0.0 0.0 0.0" />
        <parent link ="human_model/scapula_left_link"/>
        <child link ="human_model/shoulder_left_link"/>
        <axis
                xyz="0.0 0.0 0.0"/>
        <limit effort="0"
               velocity="0"
               lower="0.0"
               upper="0.0"/>
    </joint>

    <link name ="human_model/shoulder_left_link">
        <!--<inertial>
            <mass value="1.7738"/>
            <origin
                    xyz="0.0 -0.18685 0.0"
                    rpy="0 0 0" />
        </inertial>-->
        <visual name="visual">
            <origin
                    xyz="0.0 0.0 0.0"
                    rpy="0 0 0" />
            <geometry>
                <sphere radius="0.053"/>
            </geometry>
            <material name="Cyan">
                <color rgba="0 1.0 1.0 1.0"/>
            </material>
        </visual>
        <collision name="collision">
            <origin
                    xyz="0.0 0.0 0.0"
                    rpy="0 0 0" />
            <geometry>
                <sphere radius="0.053"/>
            </geometry>
        </collision>
    </link>

    <joint type="revolute" name="human_model/shoulder_bicep_left_x_joint">
        <origin
                xyz="0 0 0"
                rpy="0 0 0" />
        <parent link ="human_model/shoulder_left_link"/>
        <child link ="human_model/bicep_left_rotx_link"/>
        <axis
                xyz="1.0 0.0 0.0"/>
        <limit effort="0"
               velocity="0"
               lower="-1.136"
               upper="1.350"/>
    </joint>

    <link name="human_model/bicep_left_rotx_link">
    </link>

    <joint type="revolute" name="human_model/shoulder_bicep_left_y_joint">
        <origin
                xyz="0 0 0"
                rpy="0 0 0" />
        <parent link ="human_model/bicep_left_rotx_link"/>
        <child link ="human_model/bicep_left_roty_link"/>
        <axis
                xyz="0.0 1.0 0.0"/>
        <limit effort="0"
               velocity="0"
               lower="-1.2854"
               upper="1.3854"/>
    </joint>

    <link name="human_model/bicep_left_roty_link">
    </link>

    <joint type="revolute" name="human_model/shoulder_bicep_left_z_joint">
        <origin
                xyz="0 0 0"
                rpy="0 0 0" />
        <parent link ="human_model/bicep_left_roty_link"/>
        <child link ="human_model/bicep_left_link"/>
        <axis
                xyz="0 0 1" />
        <limit effort="0"
               velocity="0"
               lower="-1.4236"
               upper="1.5536"/>
    </joint>

    <link name ="human_model/bicep_left_link">
        <!--<inertial>
            <mass value="3.92"/>
            <origin
                    xyz="0.0 0.07825 0.0"
                    rpy="0 0 0" />
        </inertial>-->
        <visual name="visual">
            <origin
                    xyz="0.0 0.0 -0.09765"
                    rpy="0 0 0" />
            <geometry>
                <cylinder radius="0.048"
                          length="0.1953"/>
            </geometry>
            <material name="Cyan">
                <color rgba="0 1.0 1.0 1.0"/>
            </material>
        </visual>
        <collision name="collision">
            <origin
                    xyz="0.0 0.0 -0.09765"
                    rpy="0 0 0" />
            <geometry>
                <cylinder radius="0.048"
                          length="0.1953"/>
            </geometry>
        </collision>
    </link>

    <joint type="fixed" name="human_model/bicep_lower_left_joint">
        <origin
                xyz="0 0 -0.1953"
                rpy="0 0 0" />
        <parent link ="human_model/bicep_left_link"/>
        <child link ="human_model/bicep_lower_left_link"/>
        <axis
                xyz="0 0 0" />
        <limit effort="0"
               velocity="0"
               lower="0"
               upper="0"/>
    </joint>

    <link name ="human_model/bicep_lower_left_link">
        <!--<inertial>
            <mass value="3.92"/>
            <origin
                    xyz="0.0 0.07825 0.0"
                    rpy="0 0 0" />
        </inertial>-->
        <visual name="visual">
            <origin
                    xyz="0.0 0.0 -0.04185"
                    rpy="0 0 0" />
            <geometry>
                <cylinder radius="0.033"
                          length="0.0837"/>
            </geometry>
            <material name="Cyan">
                <color rgba="0 1.0 1.0 1.0"/>
            </material>
        </visual>
        <collision name="collision">
            <origin
                    xyz="0.0 0.0 -0.04185"
                    rpy="0 0 0" />
            <geometry>
                <cylinder radius="0.033"
                          length="0.0837"/>
            </geometry>
        </collision>
    </link>

    <joint type="fixed" name="human_model/bicep_elbow_left_joint">
        <origin
                xyz="0 0 -0.279"
                rpy="0 0 0" />
        <parent link ="human_model/bicep_left_link"/>
        <child link ="human_model/elbow_left_link"/>
        <axis
                xyz="0 0 0" />
        <limit effort="0"
               velocity="0"
               lower="0"
               upper="0"/>
    </joint>

    <link name ="human_model/elbow_left_link">
        <!--<inertial>
            <mass value="3.92"/>
            <origin
                    xyz="0.0 0.07825 0.0"
                    rpy="0 0 0" />
        </inertial>-->
        <visual name="visual">
            <origin
                    xyz="0.0 0.0 0.0"
                    rpy="0 0 0" />
            <geometry>
                <sphere radius="0.033"/>
            </geometry>
            <material name="Cyan">
                <color rgba="0 1.0 1.0 1.0"/>
            </material>
        </visual>
        <collision name="collision">
            <origin
                    xyz="0.0 0.0 0.0"
                    rpy="0 0 0" />
            <geometry>
                <sphere radius="0.033"/>
            </geometry>
        </collision>
    </link>

    <joint type="revolute" name="human_model/elbow_forearm_left_joint">
        <origin
                xyz="0.0 0.0 0.0"
                rpy="0 0 0" />
        <parent link ="human_model/elbow_left_link"/>
        <child link ="human_model/forearm_left_link"/>
        <axis
                xyz="0 1 0" />
        <limit effort="0"
               velocity="0"
               lower="-2.6416"
               upper="2" />
    </joint>

    <link name ="human_model/forearm_left_link">
        <!--<inertial>
            <mass value="1.7738"/>
            <origin
                    xyz="0.0 -0.18685 0.0"
                    rpy="0 0 0" />
        </inertial>-->
        <visual name="visual">
            <origin
                    xyz="0.0 0.0 -0.1285"
                    rpy="0 0 0" />
            <geometry>
                <cylinder radius="0.033"
                          length="0.257"/>
            </geometry>
            <material name="Cyan">
                <color rgba="0 1.0 1.0 1.0"/>
            </material>
        </visual>
        <collision name="collision">
            <origin
                    xyz="0.0 0.0 -0.1285"
                    rpy="0 0 0" />
            <geometry>
                <cylinder radius="0.033"
                          length="0.257"/>
            </geometry>
        </collision>
    </link>

    <joint type="fixed" name="human_model/forearm_wrist_left_joint">
        <origin
                xyz="0 0 -0.257"
                rpy="0 0 0" />
        <parent link ="human_model/forearm_left_link"/>
        <child link ="human_model/wrist_left_link"/>
        <axis
                xyz="0 0 0" />
        <limit effort="0"
               velocity="0"
               lower="0"
               upper="0"/>
    </joint>

    <link name ="human_model/wrist_left_link">
        <!--<inertial>
            <mass value="3.92"/>
            <origin
                    xyz="0.0 0.07825 0.0"
                    rpy="0 0 0" />
        </inertial>-->
        <visual name="visual">
            <origin
                    xyz="0.0 0.0 0.0"
                    rpy="0 0 0" />
            <geometry>
                <sphere radius="0.033"/>
            </geometry>
            <material name="Cyan">
                <color rgba="0 1.0 1.0 1.0"/>
            </material>
        </visual>
        <collision name="collision">
            <origin
                    xyz="0.0 0.0 0.0"
                    rpy="0 0 0" />
            <geometry>
                <sphere radius="0.033"/>
            </geometry>
        </collision>
    </link>

    <joint type="revolute" name="human_model/wrist_hand_left_x_joint">
        <origin
                xyz="0 0 0"
                rpy="0 0 0" />
        <parent link ="human_model/wrist_left_link"/>
        <child link ="human_model/hand_left_rotx_link"/>
        <axis
                xyz="1.0 0.0 0.0"/>
        <limit effort="0"
               velocity="0"
               lower="-1.136"
               upper="1.350"/>
    </joint>

    <link name="human_model/hand_left_rotx_link">
    </link>

    <joint type="revolute" name="human_model/wrist_hand_left_y_joint">
        <origin
                xyz="0 0 0"
                rpy="0 0 0" />
        <parent link ="human_model/hand_left_rotx_link"/>
        <child link ="human_model/hand_left_roty_link"/>
        <axis
                xyz="0.0 1.0 0.0"/>
        <limit effort="0"
               velocity="0"
               lower="-1.2854"
               upper="1.3854"/>
    </joint>

    <link name="human_model/hand_left_roty_link">
    </link>

    <joint type="revolute" name="human_model/wrist_hand_left_z_joint">
        <origin
                xyz="0 0 0"
                rpy="0 0 0" />
        <parent link ="human_model/hand_left_roty_link"/>
        <child link ="human_model/hand_left_link"/>
        <axis
                xyz="0 0 1" />
        <limit effort="0"
               velocity="0"
               lower="-1.4236"
               upper="1.5536"/>
    </joint>

    <link name ="human_model/hand_left_link">
        <!--<inertial>
            <mass value="3.92"/>
            <origin
                    xyz="0.0 0.07825 0.0"
                    rpy="0 0 0" />
        </inertial>-->
        <visual name="visual">
            <origin
                    xyz="0.0 0.0 -0.038"
                    rpy="0 0 0" />
            <geometry>
                <cylinder radius="0.033"
                          length="0.076"/>
            </geometry>
            <material name="Cyan">
                <color rgba="0 1.0 1.0 1.0"/>
            </material>
        </visual>
        <collision name="collision">
            <origin
                    xyz="0.0 0.0 -0.1395"
                    rpy="0 0 0" />
            <geometry>
                <cylinder radius="0.033"
                          length="0.076"/>
            </geometry>
        </collision>
    </link>

    <joint type="fixed" name="human_model/hand_fist_left_joint">
        <origin
                xyz="0 0 -0.076"
                rpy="0 0 0" />
        <parent link ="human_model/hand_left_link"/>
        <child link ="human_model/fist_left_link"/>
        <axis
                xyz="0 0 0" />
        <limit effort="0"
               velocity="0"
               lower="0"
               upper="0"/>
    </joint>

    <link name ="human_model/fist_left_link">
        <!--<inertial>
            <mass value="3.92"/>
            <origin
                    xyz="0.0 0.07825 0.0"
                    rpy="0 0 0" />
        </inertial>-->
        <visual name="visual">
            <origin
                    xyz="0.0 0.0 0.0"
                    rpy="0 0 0" />
            <geometry>
                <sphere radius="0.04699"/>
            </geometry>
            <material name="Cyan">
                <color rgba="0 1.0 1.0 1.0"/>
            </material>
        </visual>
        <collision name="collision">
            <origin
                    xyz="0.0 0.0 0.0"
                    rpy="0 0 0" />
            <geometry>
                <sphere radius="0.04699"/>
            </geometry>
        </collision>
    </link>

    <!--RIGHT ARM-->
    <joint type="revolute" name="human_model/upper_body_scapula_right_x_joint">
        <origin
                xyz="0.0 -0.0314 -0.053"
                rpy="0.0 0.0 0.0" />
        <parent link ="human_model/upper_body_top_link"/>
        <child link ="human_model/scapula_right_rotx_link"/>
        <axis
                xyz="1.0 0.0 0.0"/>
        <limit effort="0" velocity="0"
               lower="-1.2491"
               upper="1.2491"/>
    </joint>

    <link name ="human_model/scapula_right_rotx_link">
    </link>

    <joint type="revolute" name="human_model/upper_body_scapula_right_z_joint">
        <origin
                xyz="0.0 0.0 0.0"
                rpy="0.0 0.0 0.0" />
        <parent link ="human_model/scapula_right_rotx_link"/>
        <child link ="human_model/scapula_right_link"/>
        <axis
                xyz="0.0 0.0 1.0"/>
        <limit effort="0" velocity="0"
               lower="-1.2491"
               upper="1.2491"/>
    </joint>

    <link name ="human_model/scapula_right_link">
        <!--<inertial>
            <mass value="1.7738"/>
            <origin
                    xyz="0.0 -0.18685 0.0"
                    rpy="0 0 0" />
        </inertial>-->
        <visual name="visual">
            <origin
                    xyz="0.0 -0.0737835 0.0"
                    rpy="1.570796 0 0" />
            <geometry>
                <cylinder radius="0.053"
                          length="0.147567"/>
            </geometry>
        </visual>
        <collision name="collision">
            <origin
                    xyz="0.0 -0.0737835 0.0"
                    rpy="1.570796 0 0" />
            <geometry>
                <cylinder radius="0.053"
                          length="0.147567"/>
            </geometry>
        </collision>
    </link>

    <joint type="fixed" name="human_model/scapula_shoulder_right_joint">
        <origin
                xyz="0.0 -0.147567 0.0"
                rpy="0.0 0.0 0.0" />
        <parent link ="human_model/scapula_right_link"/>
        <child link ="human_model/shoulder_right_link"/>
        <axis
                xyz="0.0 0.0 0.0"/>
        <limit effort="0"
               velocity="0"
               lower="0.0"
               upper="0.0"/>
    </joint>

    <link name ="human_model/shoulder_right_link">
        <!--<inertial>
            <mass value="1.7738"/>
            <origin
                    xyz="0.0 -0.18685 0.0"
                    rpy="0 0 0" />
        </inertial>-->
        <visual name="visual">
            <origin
                    xyz="0.0 0.0 0.0"
                    rpy="0 0 0" />
            <geometry>
                <sphere radius="0.053"/>
            </geometry>
        </visual>
        <collision name="collision">
            <origin
                    xyz="0.0 0.0 0.0"
                    rpy="0 0 0" />
            <geometry>
                <sphere radius="0.053"/>
            </geometry>
        </collision>
    </link>

    <joint type="revolute" name="human_model/shoulder_bicep_right_x_joint">
        <origin
                xyz="0 0 0"
                rpy="0 0 0" />
        <parent link ="human_model/shoulder_right_link"/>
        <child link ="human_model/bicep_right_rotx_link"/>
        <axis
                xyz="1.0 0.0 0.0"/>
        <limit effort="0"
               velocity="0"
               lower="-1.136"
               upper="1.350"/>
    </joint>

    <link name="human_model/bicep_right_rotx_link">
    </link>

    <joint type="revolute" name="human_model/shoulder_bicep_right_y_joint">
        <origin
                xyz="0 0 0"
                rpy="0 0 0" />
        <parent link ="human_model/bicep_right_rotx_link"/>
        <child link ="human_model/bicep_right_roty_link"/>
        <axis
                xyz="0.0 1.0 0.0"/>
        <limit effort="0"
               velocity="0"
               lower="-1.2854"
               upper="1.3854"/>
    </joint>

    <link name="human_model/bicep_right_roty_link">
    </link>

    <joint type="revolute" name="human_model/shoulder_bicep_right_z_joint">
        <origin
                xyz="0 0 0"
                rpy="0 0 0" />
        <parent link ="human_model/bicep_right_roty_link"/>
        <child link ="human_model/bicep_right_link"/>
        <axis
                xyz="0 0 1" />
        <limit effort="0"
               velocity="0"
               lower="-1.4236"
               upper="1.5536"/>
    </joint>

    <link name ="human_model/bicep_right_link">
        <!--<inertial>
            <mass value="3.92"/>
            <origin
                    xyz="0.0 0.07825 0.0"
                    rpy="0 0 0" />
        </inertial>-->
        <visual name="visual">
            <origin
                    xyz="0.0 0.0 -0.09765"
                    rpy="0 0 0" />
            <geometry>
                <cylinder radius="0.048"
                          length="0.1953"/>
            </geometry>
            <!--<color>1.0 0.5 0.0</color>-->
        </visual>
        <collision name="collision">
            <origin
                    xyz="0.0 0.0 -0.09765"
                    rpy="0 0 0" />
            <geometry>
                <cylinder radius="0.048"
                          length="0.1953"/>
            </geometry>
        </collision>
    </link>

    <joint type="fixed" name="human_model/bicep_right_left_joint">
        <origin
                xyz="0 0 -0.1953"
                rpy="0 0 0" />
        <parent link ="human_model/bicep_right_link"/>
        <child link ="human_model/bicep_lower_right_link"/>
        <axis
                xyz="0 0 0" />
        <limit effort="0"
               velocity="0"
               lower="0"
               upper="0"/>
    </joint>

    <link name ="human_model/bicep_lower_right_link">
        <!--<inertial>
            <mass value="3.92"/>
            <origin
                    xyz="0.0 0.07825 0.0"
                    rpy="0 0 0" />
        </inertial>-->
        <visual name="visual">
            <origin
                    xyz="0.0 0.0 -0.04185"
                    rpy="0 0 0" />
            <geometry>
                <cylinder radius="0.033"
                          length="0.0837"/>
            </geometry>
            <!--<color>1.0 0.5 0.0</color>-->
        </visual>
        <collision name="collision">
            <origin
                    xyz="0.0 0.0 -0.04185"
                    rpy="0 0 0" />
            <geometry>
                <cylinder radius="0.033"
                          length="0.0837"/>
            </geometry>
        </collision>
    </link>

    <joint type="fixed" name="human_model/bicep_elbow_right_joint">
        <origin
                xyz="0 0 -0.279"
                rpy="0 0 0" />
        <parent link ="human_model/bicep_right_link"/>
        <child link ="human_model/elbow_right_link"/>
        <axis
                xyz="0 0 0" />
        <limit effort="0"
               velocity="0"
               lower="0"
               upper="0"/>
    </joint>

    <link name ="human_model/elbow_right_link">
        <!--<inertial>
            <mass value="3.92"/>
            <origin
                    xyz="0.0 0.07825 0.0"
                    rpy="0 0 0" />
        </inertial>-->
        <visual name="visual">
            <origin
                    xyz="0.0 0.0 0.0"
                    rpy="0 0 0" />
            <geometry>
                <sphere radius="0.033"/>
            </geometry>
            <!--<color>1.0 0.5 0.0</color>-->
        </visual>
        <collision name="collision">
            <origin
                    xyz="0.0 0.0 0.0"
                    rpy="0 0 0" />
            <geometry>
                <sphere radius="0.033"/>
            </geometry>
        </collision>
    </link>

    <joint type="revolute" name="human_model/elbow_forearm_right_joint">
        <origin
                xyz="0.0 0.0 0.0"
                rpy="0 0 0" />
        <parent link ="human_model/elbow_right_link"/>
        <child link ="human_model/forearm_right_link"/>
        <axis
                xyz="0 1 0" />
        <limit effort="0"
               velocity="0"
               lower="-2.6416"
               upper="2" />
    </joint>

    <link name ="human_model/forearm_right_link">
        <!--<inertial>
            <mass value="1.7738"/>
            <origin
                    xyz="0.0 -0.18685 0.0"
                    rpy="0 0 0" />
        </inertial>-->
        <visual name="visual">
            <origin
                    xyz="0.0 0.0 -0.1285"
                    rpy="0 0 0" />
            <geometry>
                <cylinder radius="0.033"
                          length="0.257"/>
            </geometry>
        </visual>
        <collision name="collision">
            <origin
                    xyz="0.0 0.0 -0.1285"
                    rpy="0 0 0" />
            <geometry>
                <cylinder radius="0.033"
                          length="0.257"/>
            </geometry>
        </collision>
    </link>

    <joint type="fixed" name="human_model/forearm_wrist_right_joint">
        <origin
                xyz="0 0 -0.257"
                rpy="0 0 0" />
        <parent link ="human_model/forearm_right_link"/>
        <child link ="human_model/wrist_right_link"/>
        <axis
                xyz="0 0 0" />
        <limit effort="0"
               velocity="0"
               lower="0"
               upper="0"/>
    </joint>

    <link name ="human_model/wrist_right_link">
        <!--<inertial>
            <mass value="3.92"/>
            <origin
                    xyz="0.0 0.07825 0.0"
                    rpy="0 0 0" />
        </inertial>-->
        <visual name="visual">
            <origin
                    xyz="0.0 0.0 0.0"
                    rpy="0 0 0" />
            <geometry>
                <sphere radius="0.033"/>
            </geometry>
            <!--<color>1.0 0.5 0.0</color>-->
        </visual>
        <collision name="collision">
            <origin
                    xyz="0.0 0.0 0.0"
                    rpy="0 0 0" />
            <geometry>
                <sphere radius="0.033"/>
            </geometry>
        </collision>
    </link>

    <joint type="revolute" name="human_model/wrist_hand_right_x_joint">
        <origin
                xyz="0 0 0"
                rpy="0 0 0" />
        <parent link ="human_model/wrist_right_link"/>
        <child link ="human_model/hand_right_rotx_link"/>
        <axis
                xyz="1.0 0.0 0.0"/>
        <limit effort="0"
               velocity="0"
               lower="-1.136"
               upper="1.350"/>
    </joint>

    <link name="human_model/hand_right_rotx_link">
    </link>

    <joint type="revolute" name="human_model/wrist_hand_right_y_joint">
        <origin
                xyz="0 0 0"
                rpy="0 0 0" />
        <parent link ="human_model/hand_right_rotx_link"/>
        <child link ="human_model/hand_right_roty_link"/>
        <axis
                xyz="0.0 1.0 0.0"/>
        <limit effort="0"
               velocity="0"
               lower="-1.2854"
               upper="1.3854"/>
    </joint>

    <link name="human_model/hand_right_roty_link">
    </link>

    <joint type="revolute" name="human_model/wrist_hand_right_z_joint">
        <origin
                xyz="0 0 0"
                rpy="0 0 0" />
        <parent link ="human_model/hand_right_roty_link"/>
        <child link ="human_model/hand_right_link"/>
        <axis
                xyz="0 0 1" />
        <limit effort="0"
               velocity="0"
               lower="-1.4236"
               upper="1.5536"/>
    </joint>

    <link name ="human_model/hand_right_link">
        <!--<inertial>
            <mass value="3.92"/>
            <origin
                    xyz="0.0 0.07825 0.0"
                    rpy="0 0 0" />
        </inertial>-->
        <visual name="visual">
            <origin
                    xyz="0.0 0.0 -0.038"
                    rpy="0 0 0" />
            <geometry>
                <cylinder radius="0.033"
                          length="0.076"/>
            </geometry>
            <!--<color>1.0 0.5 0.0</color>-->
        </visual>
        <collision name="collision">
            <origin
                    xyz="0.0 0.0 -0.1395"
                    rpy="0 0 0" />
            <geometry>
                <cylinder radius="0.033"
                          length="0.076"/>
            </geometry>
        </collision>
    </link>

    <joint type="fixed" name="human_model/hand_fist_right_joint">
        <origin
                xyz="0 0 -0.076"
                rpy="0 0 0" />
        <parent link ="human_model/hand_right_link"/>
        <child link ="human_model/fist_right_link"/>
        <axis
                xyz="0 0 0" />
        <limit effort="0"
               velocity="0"
               lower="0"
               upper="0"/>
    </joint>

    <link name ="human_model/fist_right_link">
        <!--<inertial>
            <mass value="3.92"/>
            <origin
                    xyz="0.0 0.07825 0.0"
                    rpy="0 0 0" />
        </inertial>-->
        <visual name="visual">
            <origin
                    xyz="0.0 0.0 0.0"
                    rpy="0 0 0" />
            <geometry>
                <sphere radius="0.04699"/>
            </geometry>
            <!--<color>1.0 0.5 0.0</color>-->
        </visual>
        <collision name="collision">
            <origin
                    xyz="0.0 0.0 0.0"
                    rpy="0 0 0" />
            <geometry>
                <sphere radius="0.04699"/>
            </geometry>
        </collision>
    </link>


</robot>
